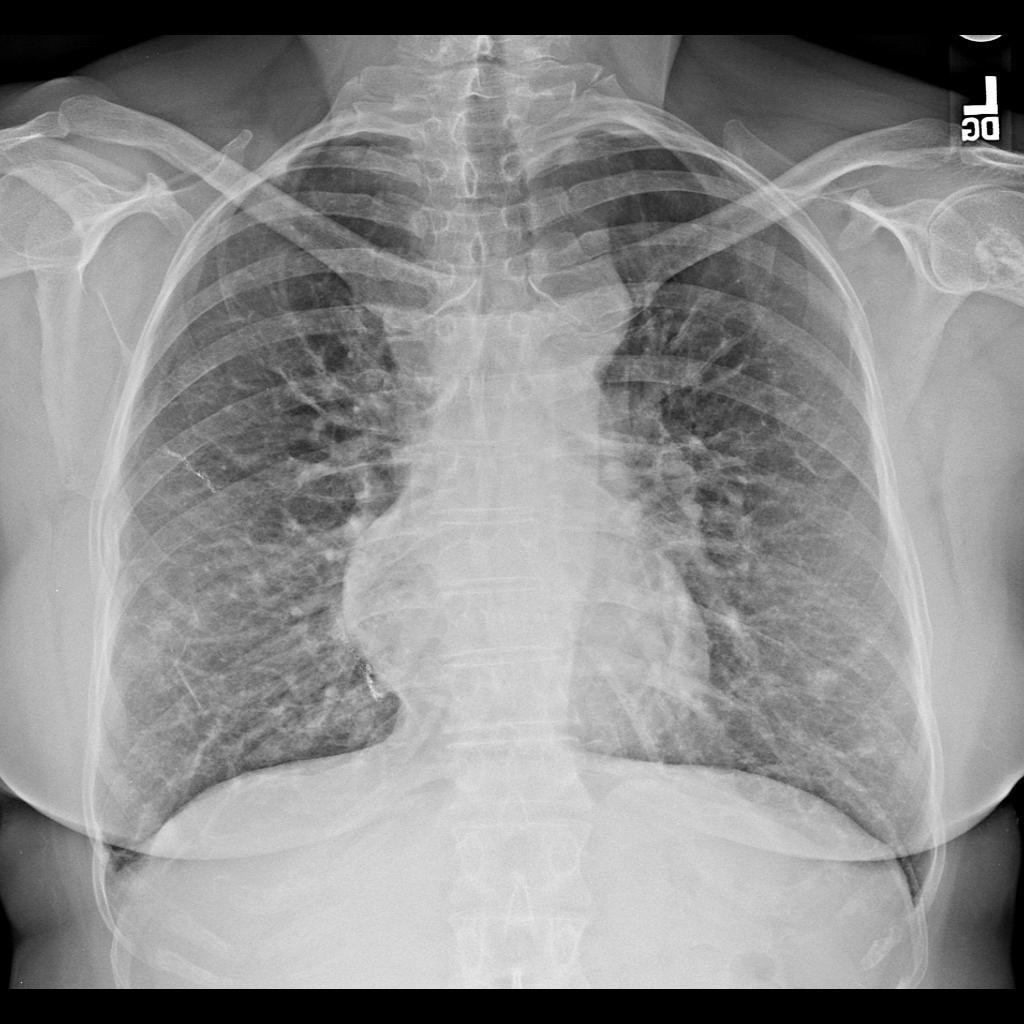Nodule: (801, 655, 849, 711)
